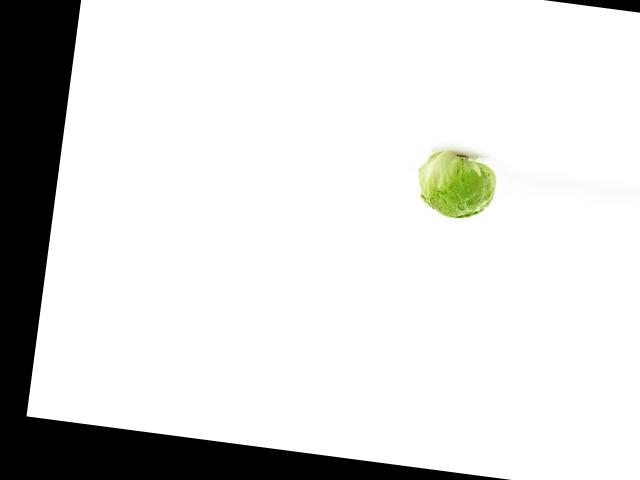lettuce: (412, 152, 508, 226)
